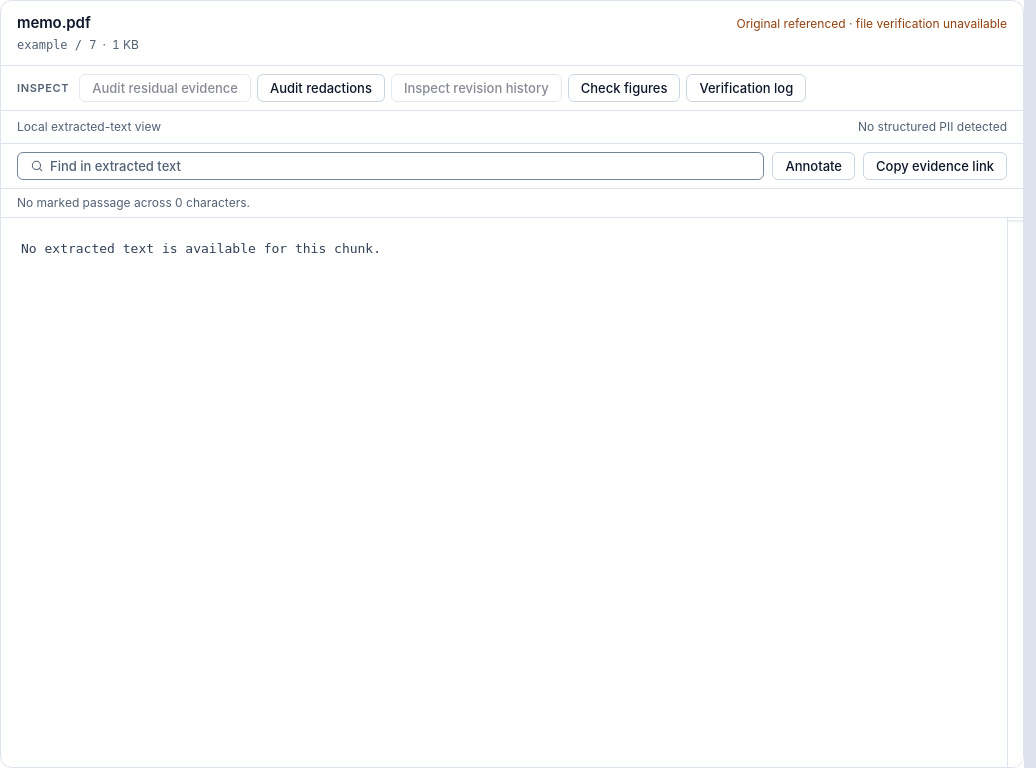
Test: document claim checks › renders each outcome as consistent, mismatch, or not checked with its reason
The width and height of the screenshot is (1036, 768).
Click the button "Check figures": (624, 88) [568,74,680,102]
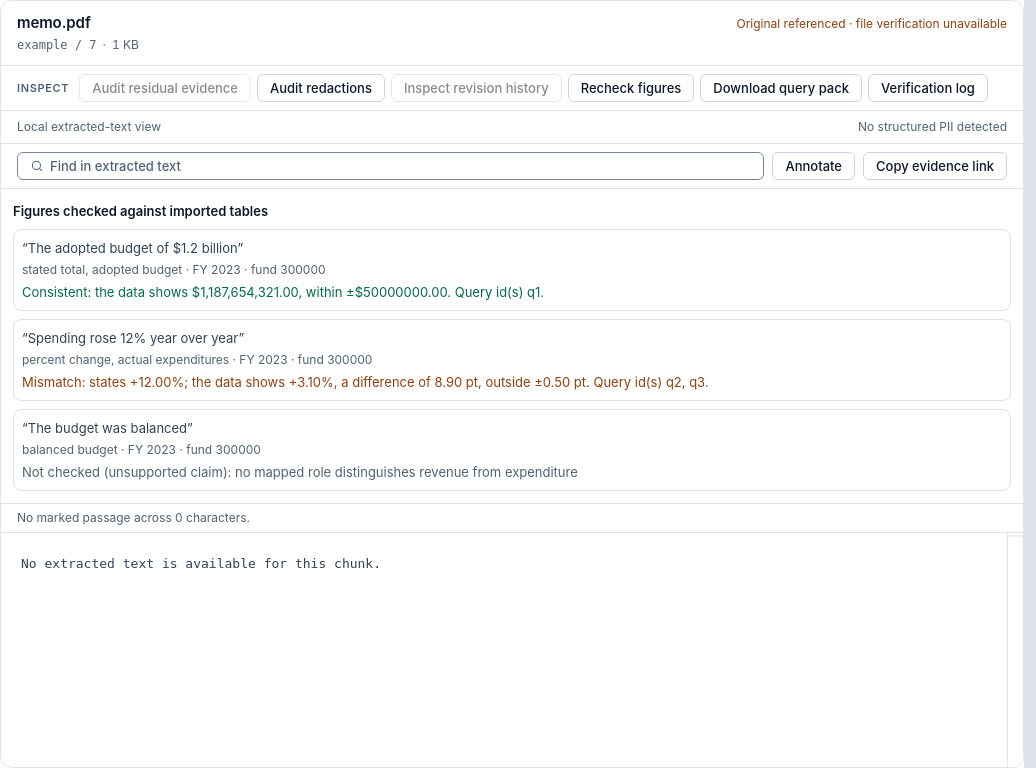
Expected: the text "Consistent: the data shows $1,187,654,321.00, within ±$50000000.00" is shown, [22,284,544,300]
Expected: the text "Not checked (unsupported claim): no mapped role distinguishes revenue from expenditure" is shown, [22,464,578,480]
Expected: the button "Recheck figures" is shown, [568,74,694,102]
